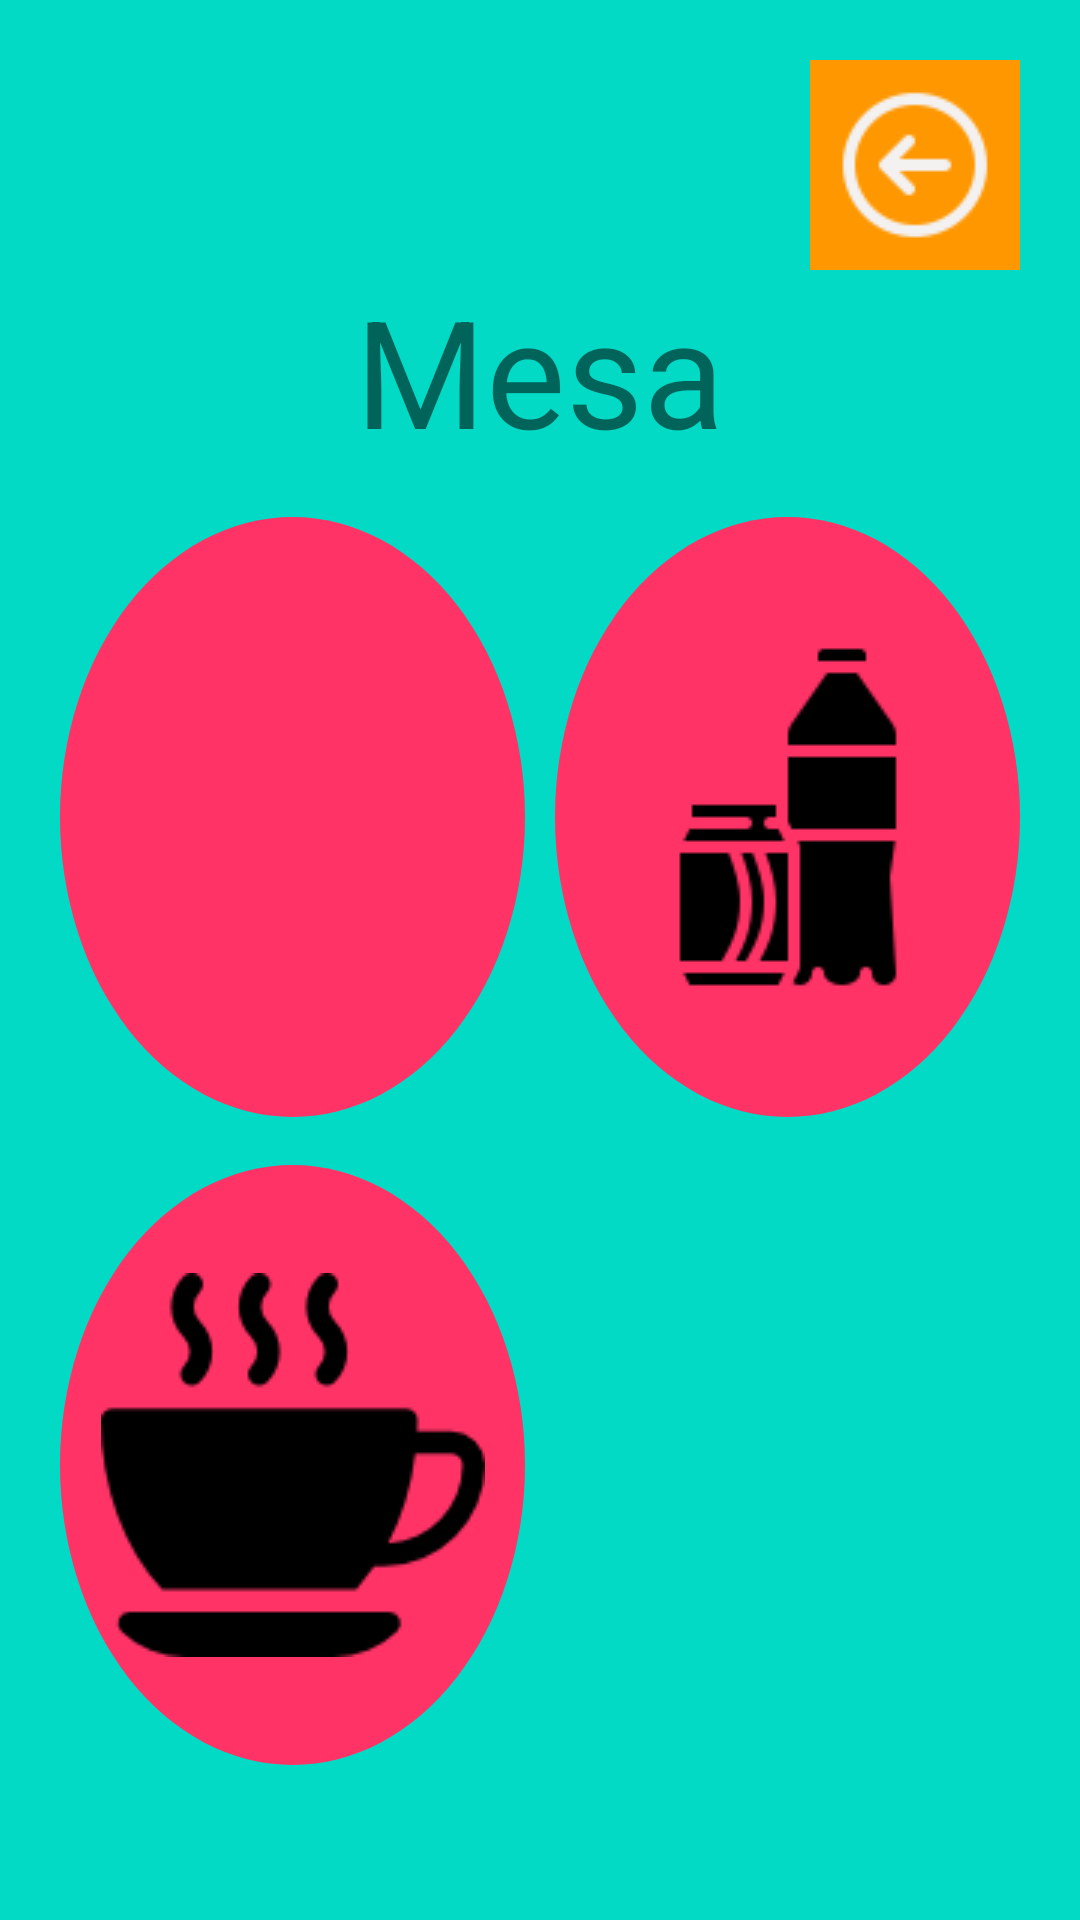

Screen size 1080px×1920px. Icon name, then its center in pixels as [x,y]:
back: [915,165]
